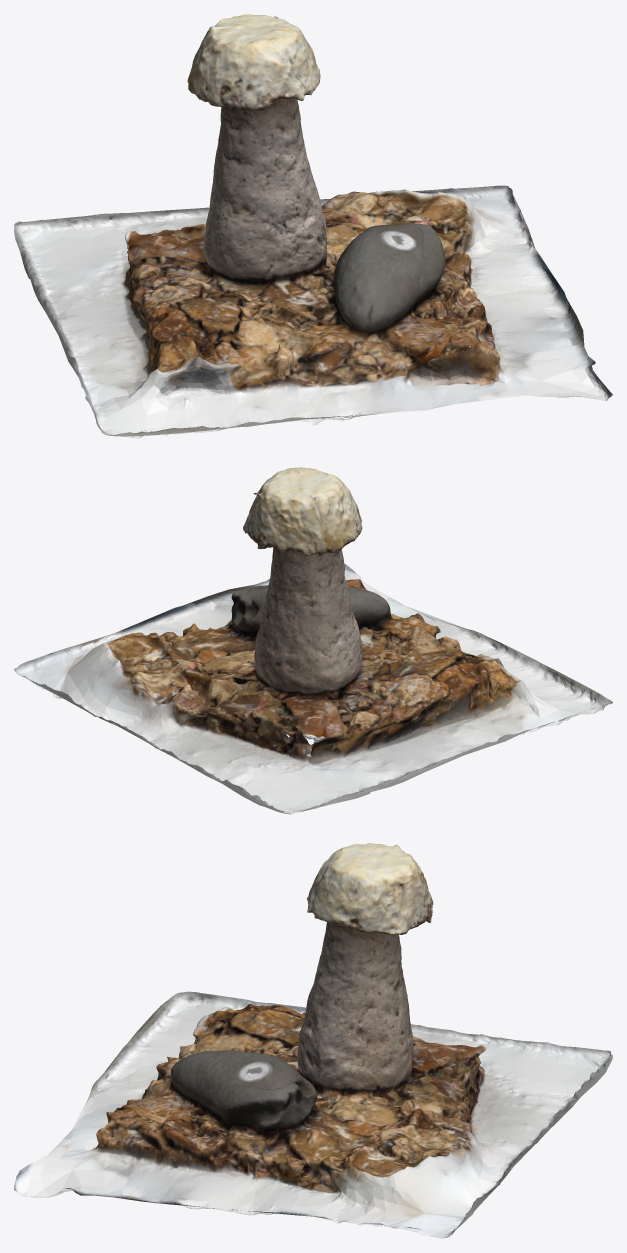
File: scan.glb
3 renders of one model, top to bottom at view 1: azimuth 30°, elevation 25°; view 2: azimuth 150°, elevation 25°; view 3: azimuth 270°, elevation 25°, orthographic. The views are drawn at different scales.
Visible parts, largest first — view 1: mesh; view 2: mesh; view 3: mesh.
Part boxes in pixels (left/top/right/bottom): mesh: left=14, top=14, right=612, bottom=438; mesh: left=14, top=467, right=612, bottom=814; mesh: left=14, top=843, right=612, bottom=1238.
Size of the model in its own units: 0.4425 by 0.2156 by 0.4441.
1 material, 1 textured.
